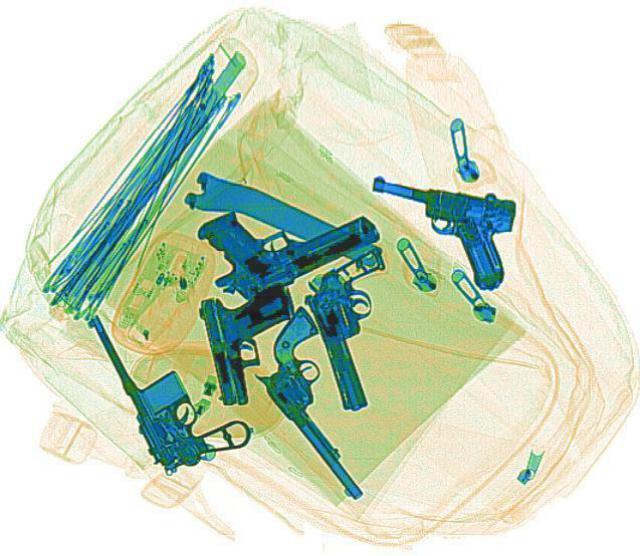Gun: (222, 302, 430, 499), (82, 285, 258, 476), (175, 160, 383, 308), (294, 241, 428, 411), (345, 167, 527, 291), (195, 279, 308, 406)
